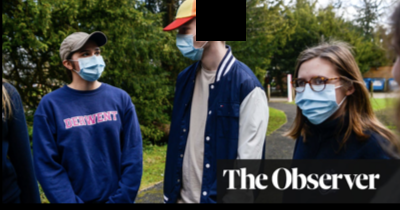with_mask: (293, 73, 342, 127), (73, 46, 106, 81), (176, 25, 206, 63)
